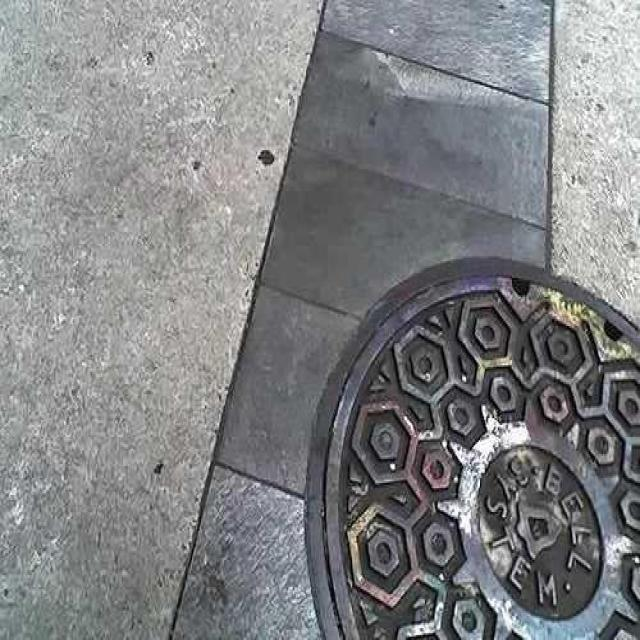manhole: (309, 258, 640, 637)
